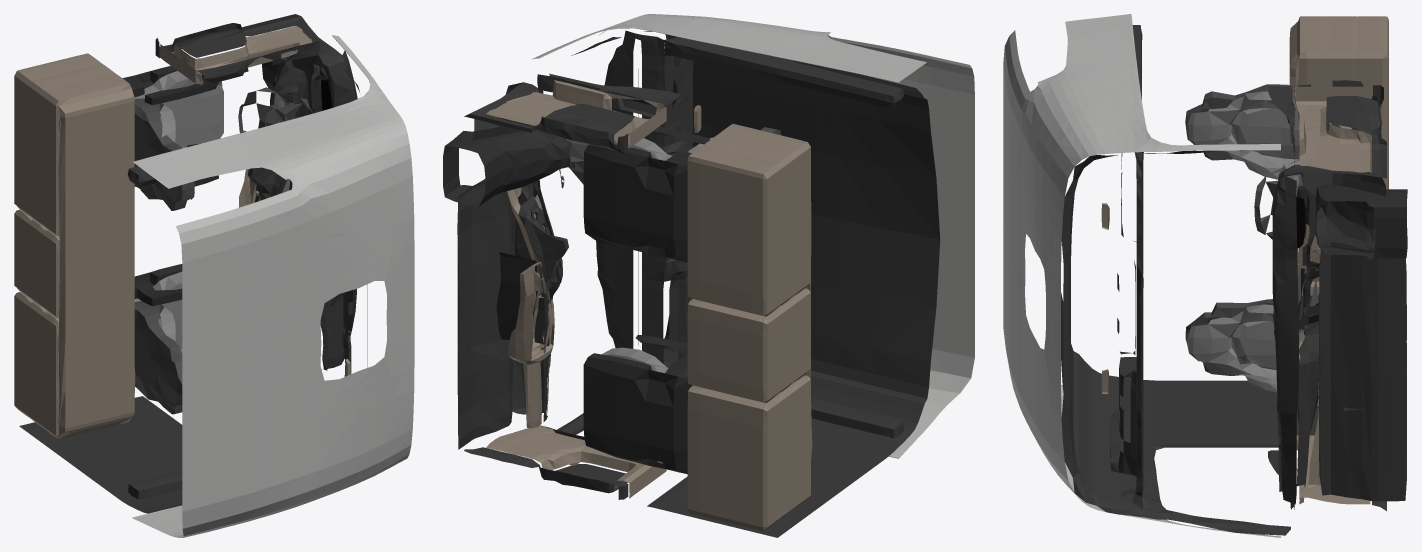
The model's file is fh16_cab_interior.obj.
3 views of the same model, side by side, from view 1: azimuth 30°, elevation 25°; view 2: azimuth 150°, elevation 25°; view 3: azimuth 270°, elevation 25° (orthographic). The views are drawn at different scales.
Visible parts, largest first — view 1: fh16_cab_interior; view 2: fh16_cab_interior; view 3: fh16_cab_interior.
Part boxes in pixels (x1,y1,x2,y2): fh16_cab_interior: [14, 14, 414, 537]; fh16_cab_interior: [443, 14, 974, 537]; fh16_cab_interior: [1003, 14, 1407, 537].
Bounding box in the file's own units: 2.31 × 2.58 × 2.4.
